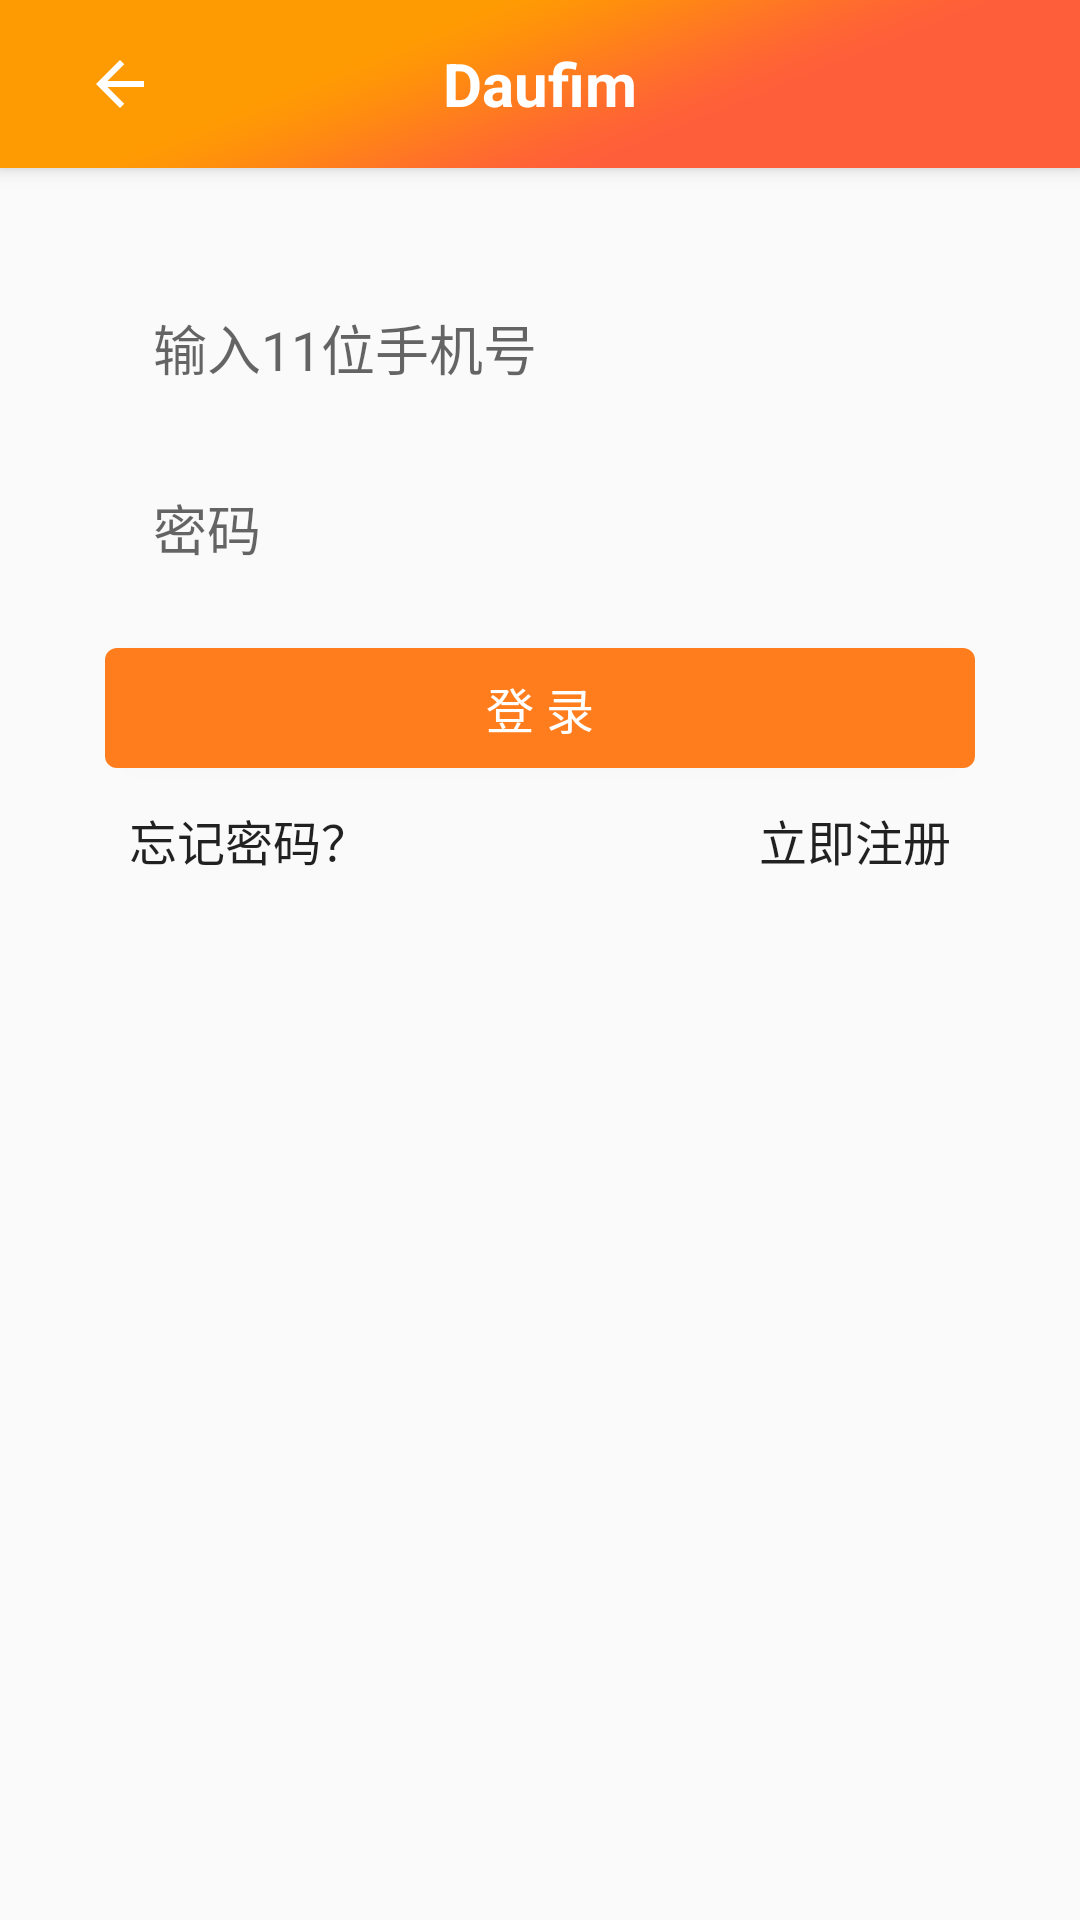

Named icons in this screenshot (1080w x 1920h) and their bounding boxes, (x1, y1, x2, y2):
left arrow: (96, 60, 144, 108)
